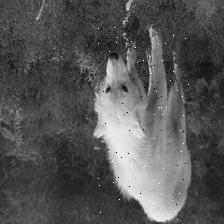WOLF: (95, 25, 190, 221)
